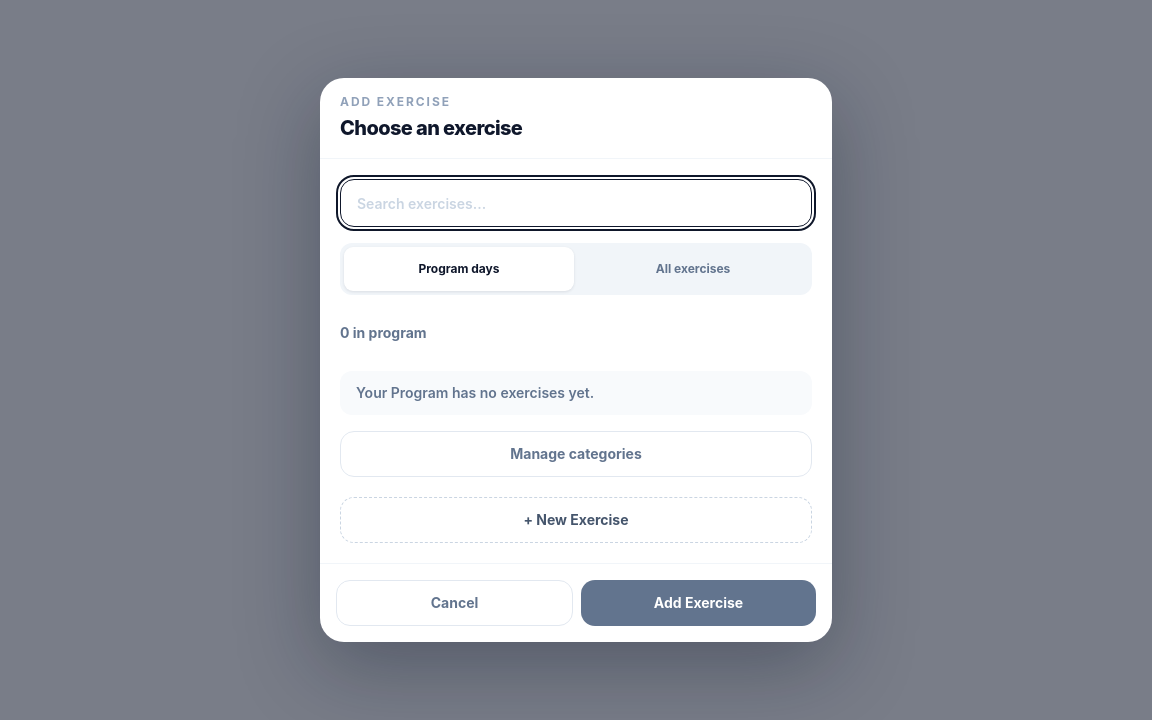
Test case: exercise rename picker flow › opens the editor with the current name pre-filled and focused
Click the tab "All exercises" at coordinates (693, 269), box [578,247,808,291]
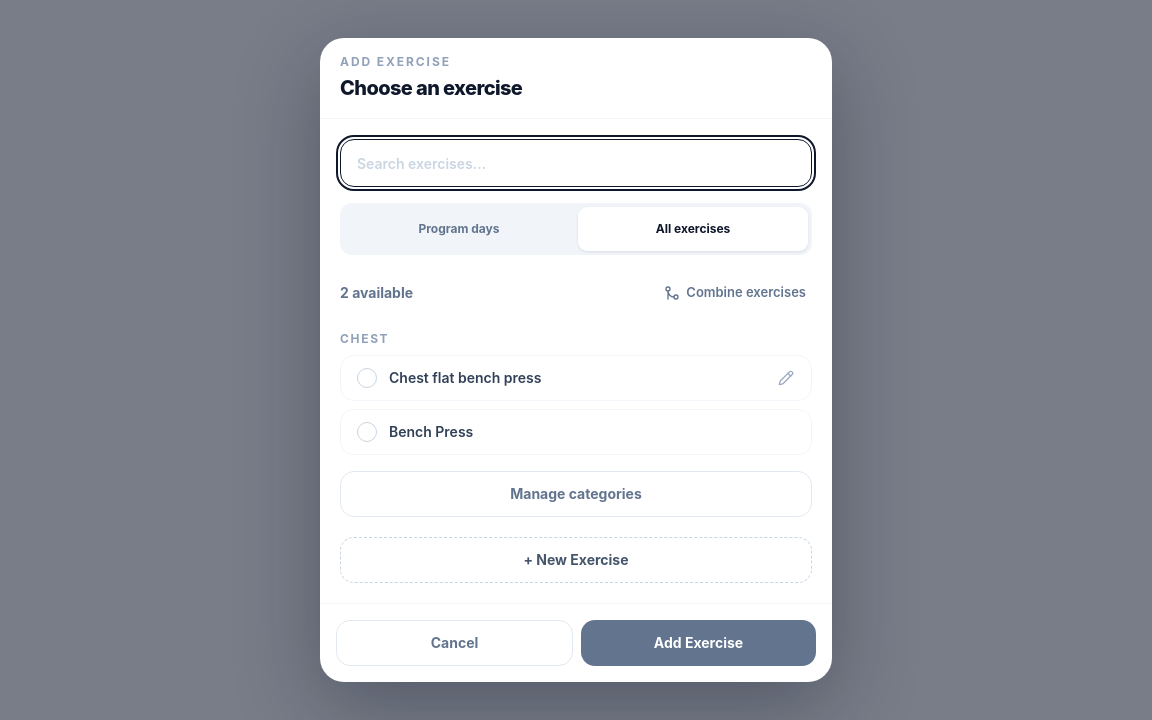
Click the button named "Edit exercise Chest flat bench press" at coordinates (786, 378), box [764,356,808,400]
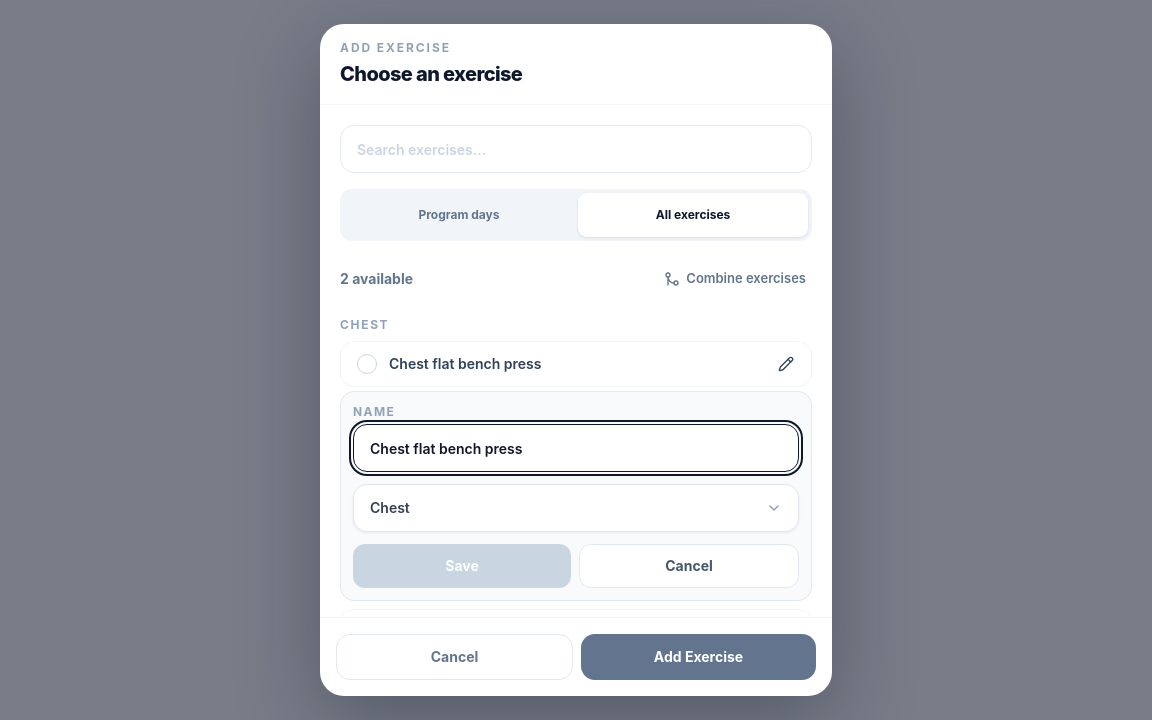
Now the field labelled "Name" holds "Chest flat bench press", box [353,424,799,472]
